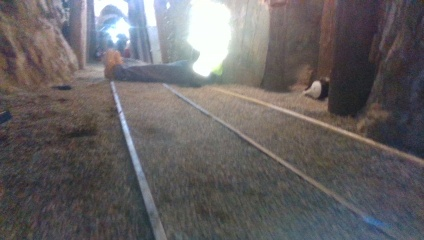manikin: (100, 0, 234, 86)
